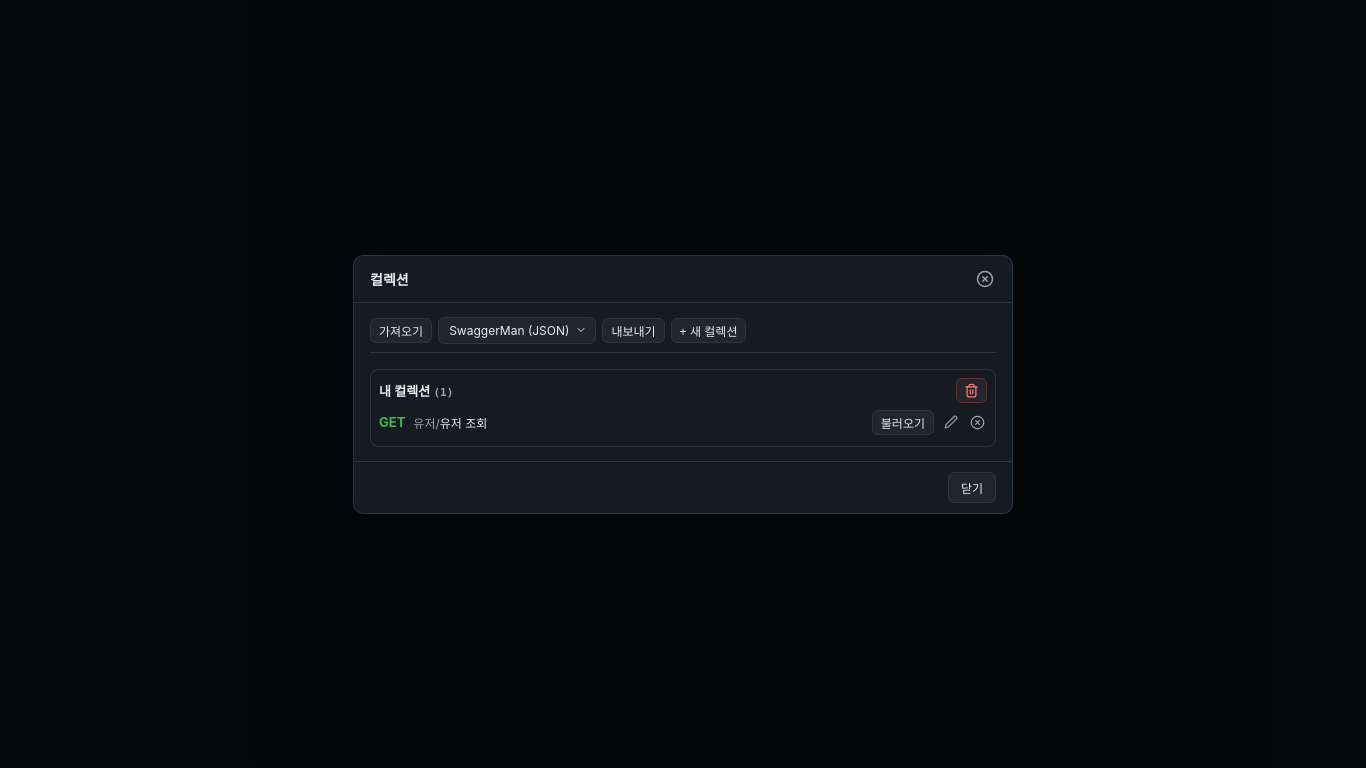
CollectionsModal › 가져오기: 파일을 읽어 컬렉션을 병합
Click the button "가져오기" at x=401, y=330, box [370,318,432,342]
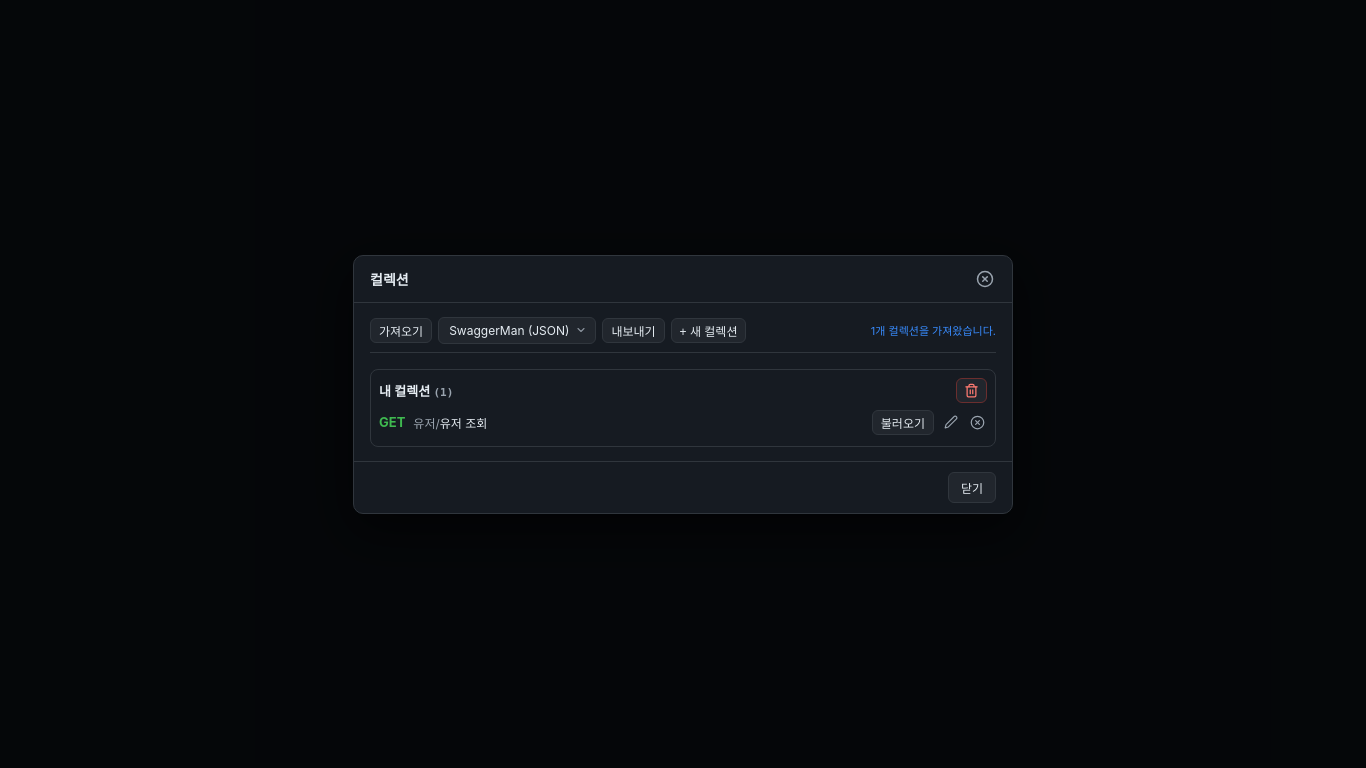
Result: the text "1개 컬렉션을 가져왔습니다." is shown at [871,322,996,338]
